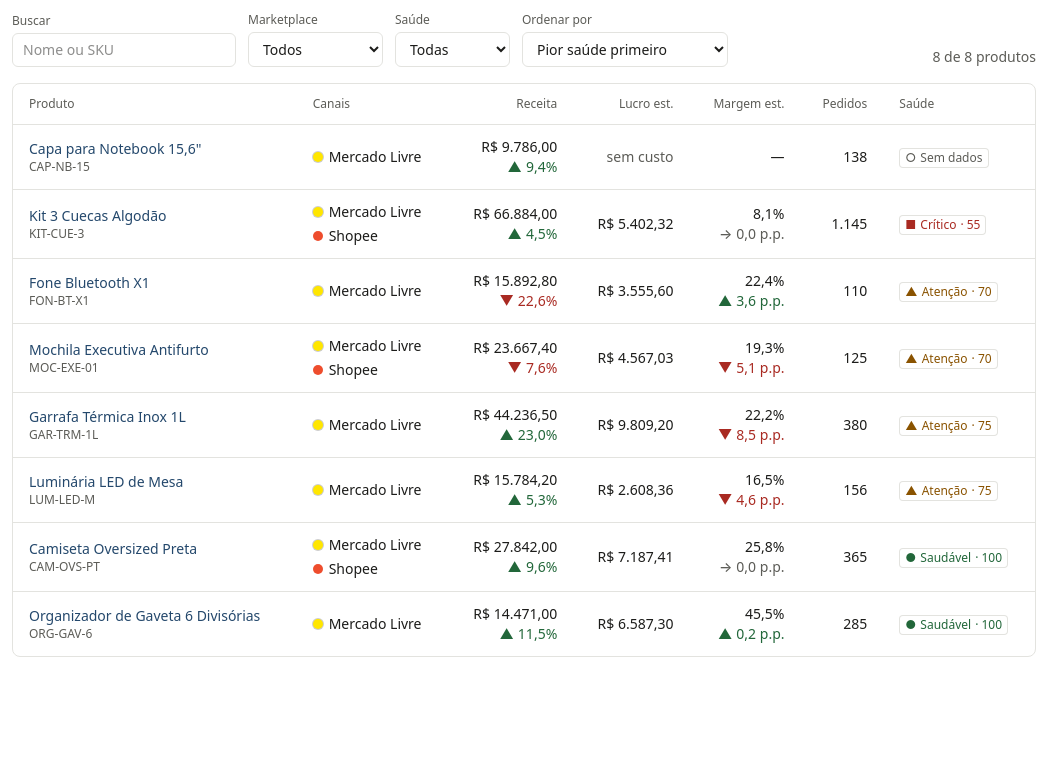
ProductsTable › filtra por busca, marketplace e saúde
Type "kit" into the search field labelled "Buscar".
click(124, 50); type("kit")  # box [12, 33, 236, 67]
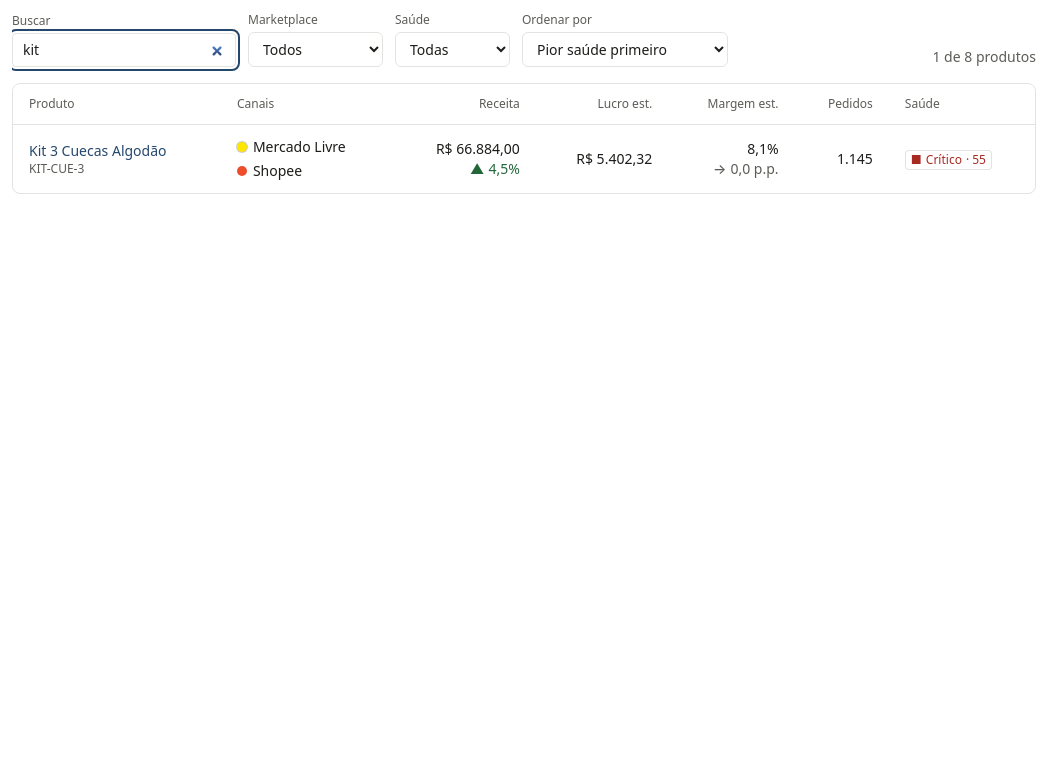
Clear the search field labelled "Buscar" at (124, 50), box [12, 33, 236, 67]
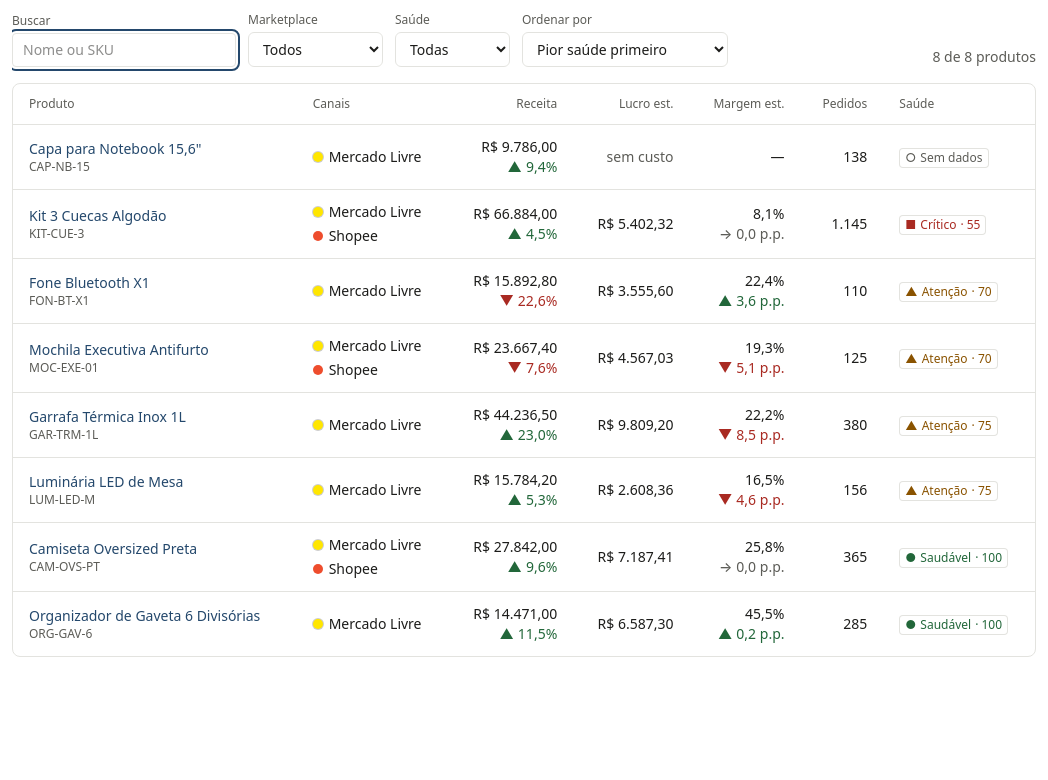
Select "Shopee" in the dropdown labelled "Marketplace" at (316, 50), box [248, 32, 383, 67]
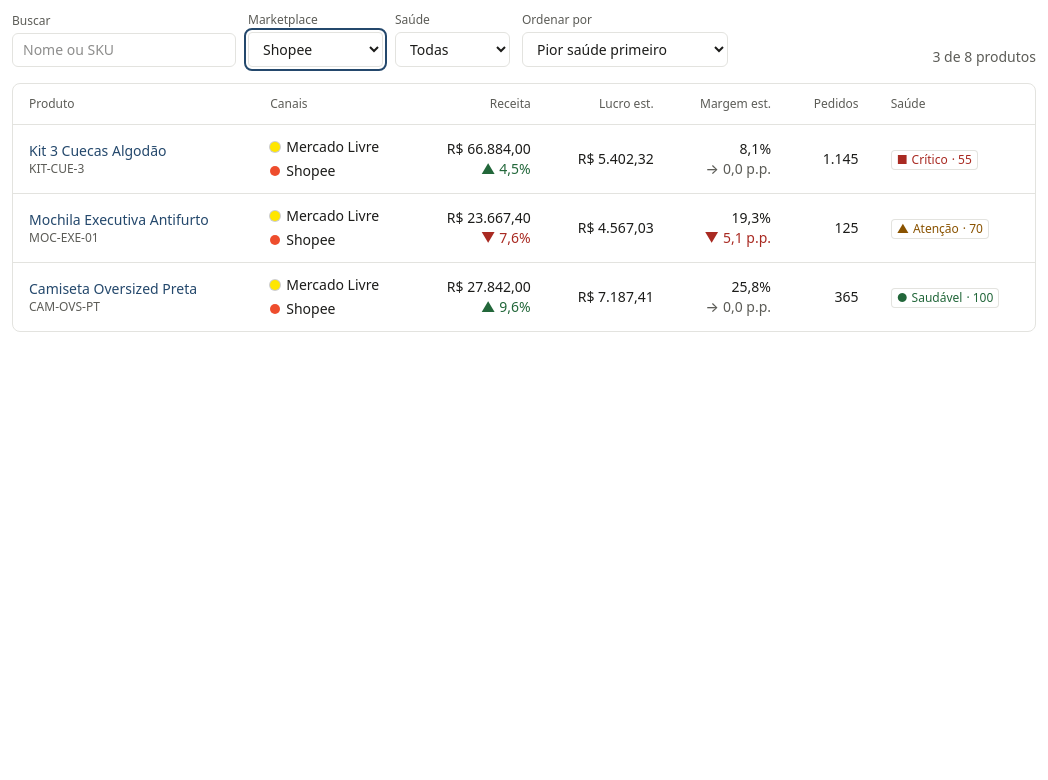
Select "Crítico" in the dropdown labelled "Saúde" at (452, 50), box [395, 32, 510, 67]
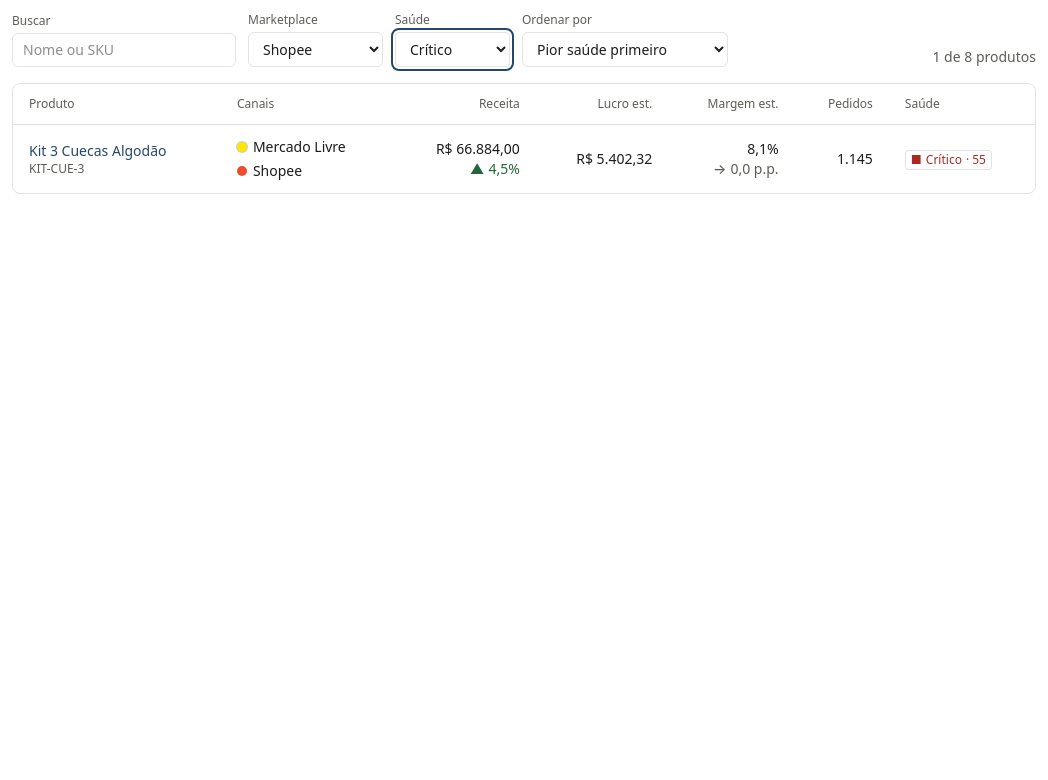
Expected: the text "1 de 8 produtos" is shown, [932, 47, 1036, 67]
